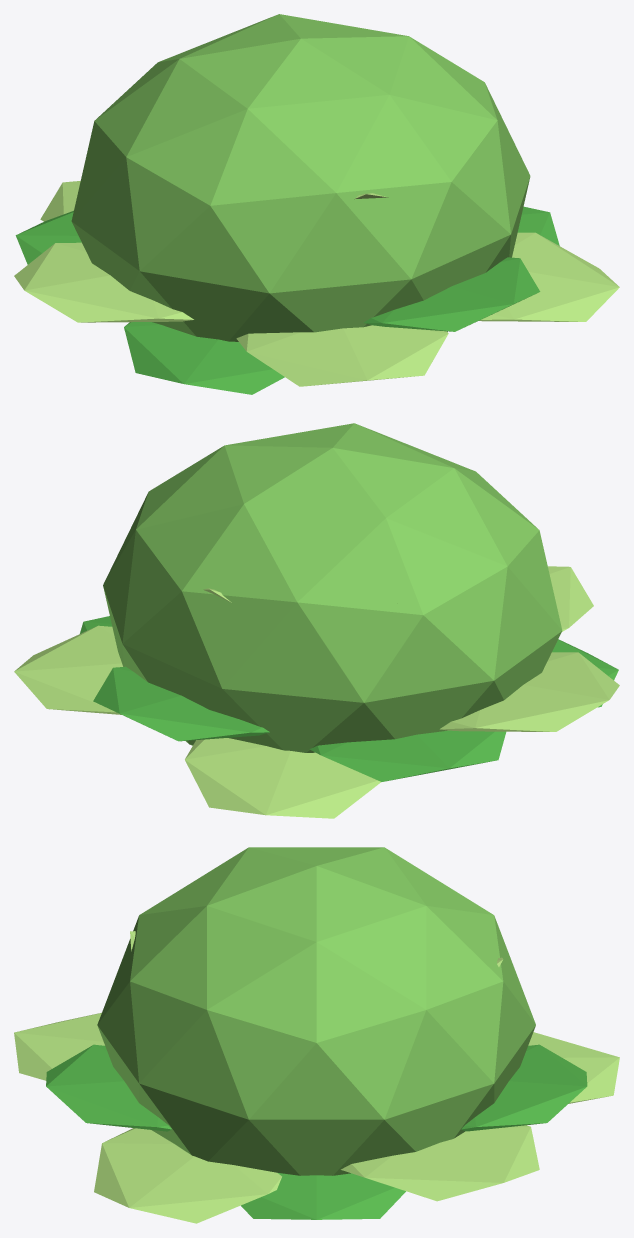
The model's file is Cabbage.glb.
3 views of the same model, one above another, from view 1: azimuth 30°, elevation 25°; view 2: azimuth 150°, elevation 25°; view 3: azimuth 270°, elevation 25° (orthographic).
Visible parts, largest first — view 1: FTF_Plant_Cabbage_Mature_Mesh; view 2: FTF_Plant_Cabbage_Mature_Mesh; view 3: FTF_Plant_Cabbage_Mature_Mesh.
Part boxes in pixels (x1,y1,x2,y2): FTF_Plant_Cabbage_Mature_Mesh: (14, 14, 619, 394); FTF_Plant_Cabbage_Mature_Mesh: (14, 423, 619, 818); FTF_Plant_Cabbage_Mature_Mesh: (14, 847, 619, 1223).
Size of the model in its own units: 1.1 by 0.64 by 1.1.
